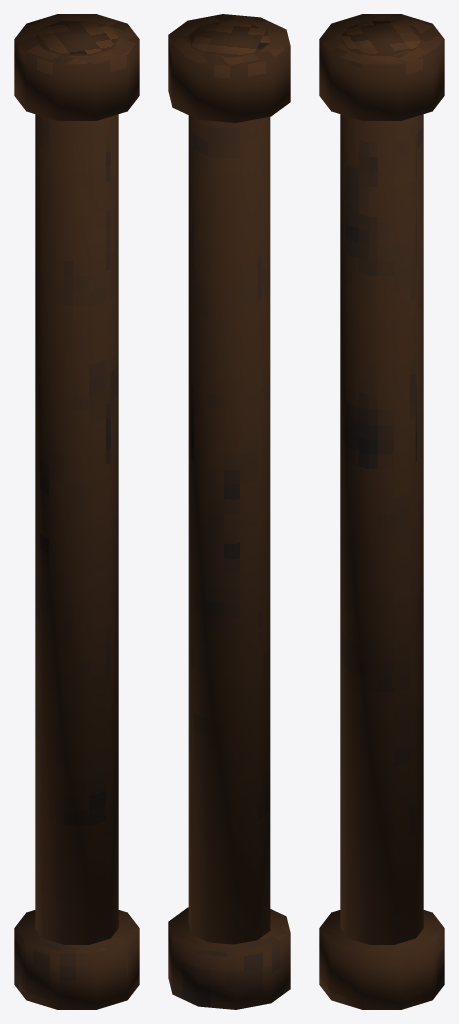
File: cellar_grille_post.obj
3 renders of one model, left to right at view 1: azimuth 90°, elevation 25°; view 2: azimuth 150°, elevation 25°; view 3: azimuth 270°, elevation 25°, orthographic.
Visible parts, largest first — view 1: part0; view 2: part0; view 3: part0.
Boxes of the visible parts, left/top/right/bottom form: part0: left=14, top=14, right=139, bottom=1009; part0: left=168, top=14, right=290, bottom=1009; part0: left=319, top=14, right=444, bottom=1009.
Size of the model in its own units: 0.1141 by 1 by 0.12.
